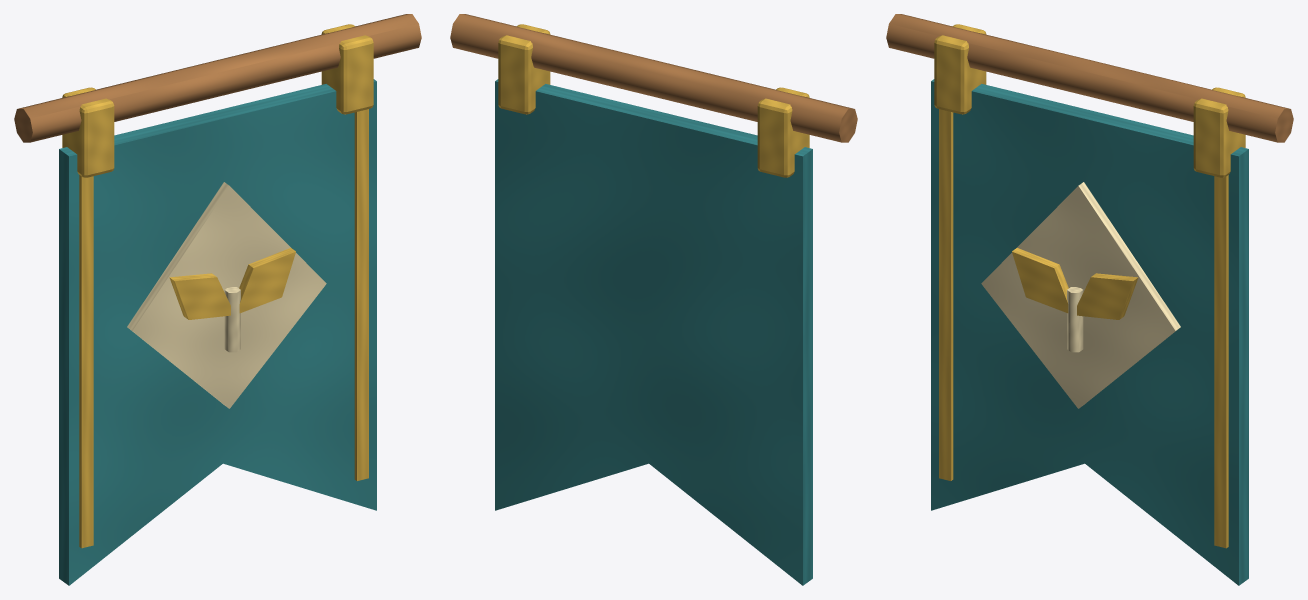
The model's file is camp-banner.glb.
The picture shows the model from 3 angles, left to right: view 1: azimuth 30°, elevation 25°; view 2: azimuth 150°, elevation 25°; view 3: azimuth 330°, elevation 25°; orthographic projection.
Visible parts, largest first — view 1: camp-banner-mesh; view 2: camp-banner-mesh; view 3: camp-banner-mesh.
Boxes of the visible parts, x1,y1,x2,y2 form: camp-banner-mesh: (14,14,421,585); camp-banner-mesh: (450,14,857,585); camp-banner-mesh: (886,14,1293,585).
Bounding box in the file's own units: 1.44 × 1.71 × 0.1962.
Materials: 1 (1 with a texture image).
